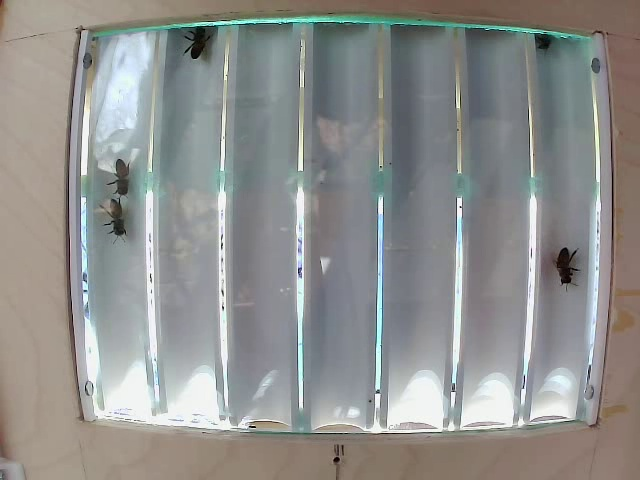bee: (540, 243, 584, 295), (107, 159, 146, 193), (182, 21, 216, 59), (109, 205, 135, 252)
